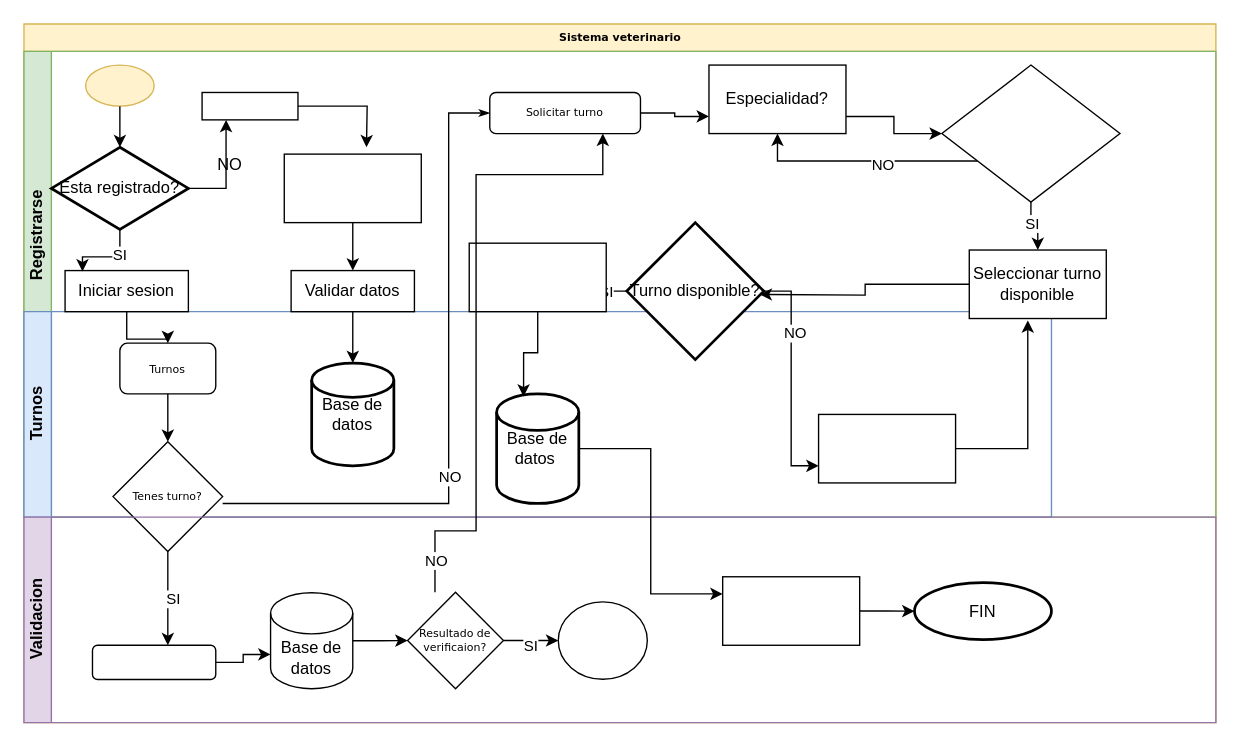
Image size: 1240x747. Some labels were removed from this diagram. The centre of each missing label's shape, as x and y in pixels:
"Cliente" goes at (119,85).
"Completar formulario de registro" goes at (352,188).
"Consulta a la base de datos" goes at (537,277).
"Consultar" goes at (153,662).
"Enviar email de confirmacion" goes at (790,610).
"Registrado" goes at (602,639).
"Registrase" goes at (249,105).
"Reservar" goes at (1030,133).
"Turno no disponible" goes at (886,448).
